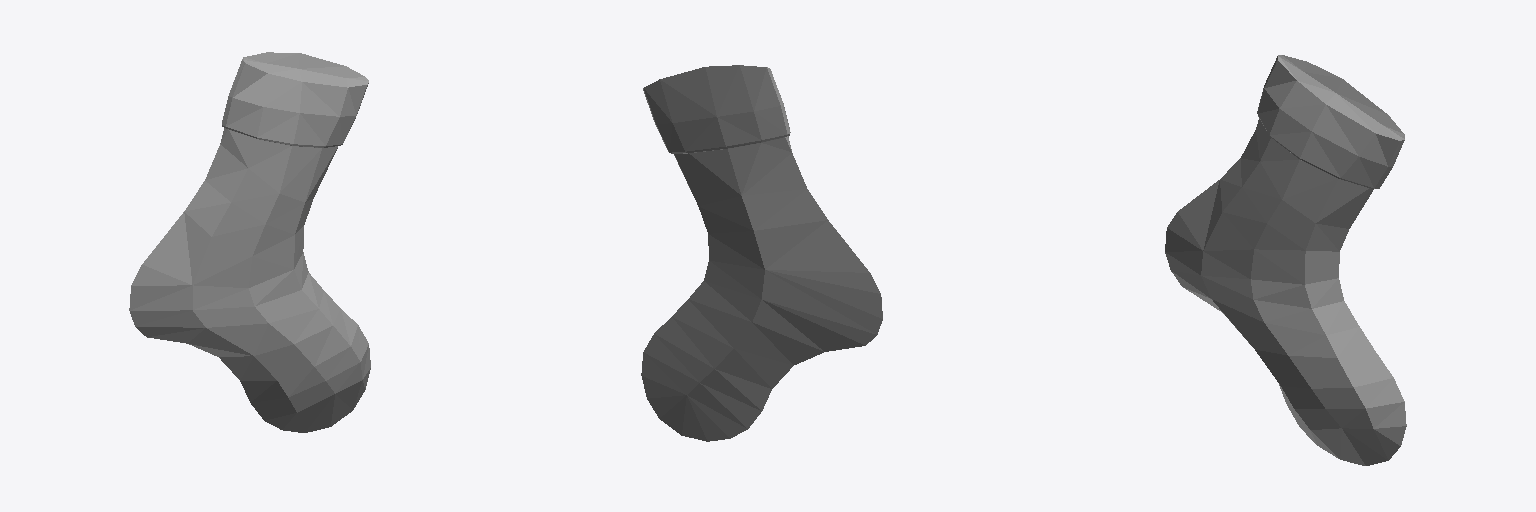
Rendered from calceta_roja.obj.
3 renders of one model, left to right at view 1: azimuth 30°, elevation 25°; view 2: azimuth 150°, elevation 25°; view 3: azimuth 330°, elevation 25°, orthographic.
Parts seen in each view (by area): view 1: norvedem_sock; view 2: norvedem_sock; view 3: norvedem_sock.
Part boxes in pixels (x1,y1,x2,y2): norvedem_sock: (129, 52, 370, 432); norvedem_sock: (641, 65, 882, 441); norvedem_sock: (1165, 55, 1406, 465).
Size of the model in its own units: 17.16 by 26.45 by 3.66.